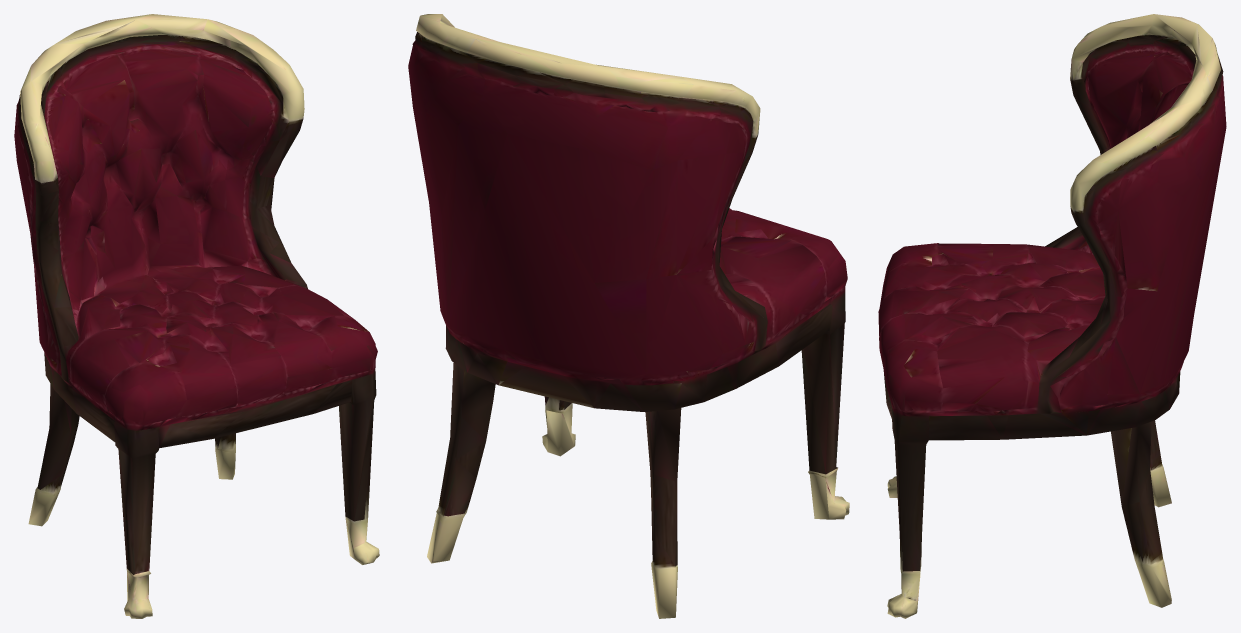
File: chair.glb
The picture shows the model from 3 angles, left to right: view 1: azimuth 30°, elevation 25°; view 2: azimuth 150°, elevation 25°; view 3: azimuth 270°, elevation 25°; orthographic projection. The views are drawn at different scales.
Parts seen in each view (by area): view 1: Mesh_0; view 2: Mesh_0; view 3: Mesh_0.
Boxes of the visible parts, left/top/right/bottom form: Mesh_0: left=14, top=14, right=379, bottom=618; Mesh_0: left=408, top=14, right=849, bottom=618; Mesh_0: left=878, top=14, right=1226, bottom=618.
Bounding box in the file's own units: 0.7022 × 1.15 × 0.726.
1 material, 1 textured.
